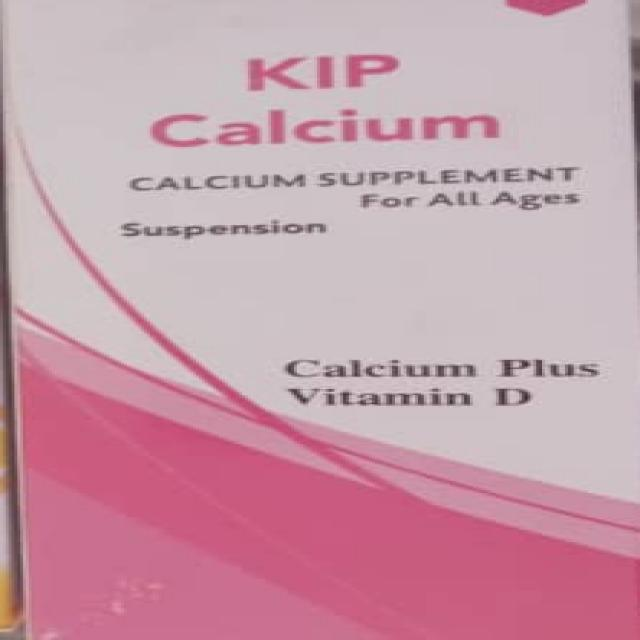drug-name: (139, 52, 507, 148)
